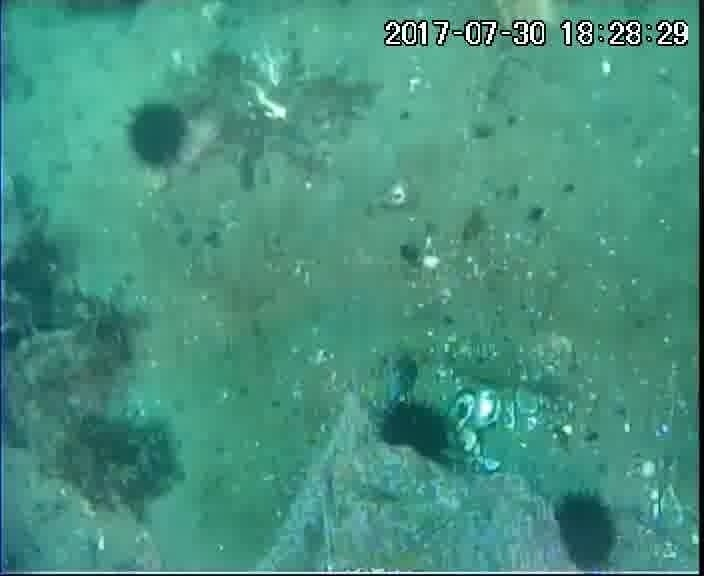echinus: (550, 489, 623, 571), (375, 396, 458, 466), (122, 99, 192, 173)
